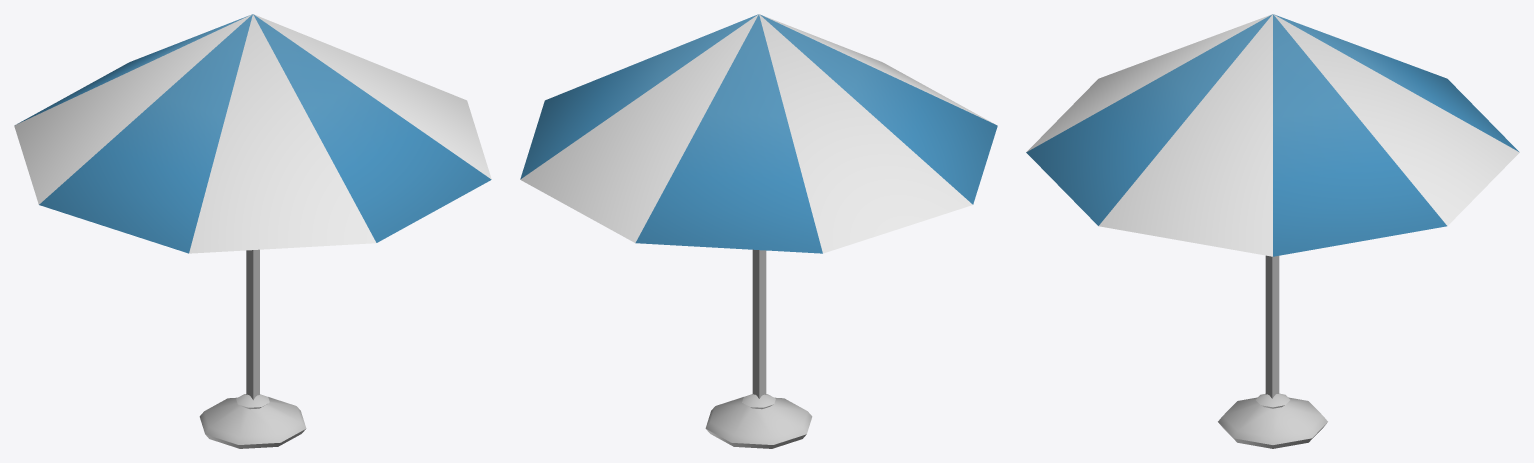
Rendered from Rattan_BeachUnmbrella_03.FBX.
3 renders of one model, left to right at view 1: azimuth 30°, elevation 25°; view 2: azimuth 150°, elevation 25°; view 3: azimuth 270°, elevation 25°, orthographic.
Visible parts, largest first — view 1: Rattan_BeachUnmbrella_03; view 2: Rattan_BeachUnmbrella_03; view 3: Rattan_BeachUnmbrella_03.
Part boxes in pixels (box(x1,y1,x2,y2)): Rattan_BeachUnmbrella_03: box(14, 14, 491, 448); Rattan_BeachUnmbrella_03: box(520, 14, 997, 448); Rattan_BeachUnmbrella_03: box(1026, 14, 1519, 448).
Size of the model in its own units: 3.04 by 3.04 by 2.81.
